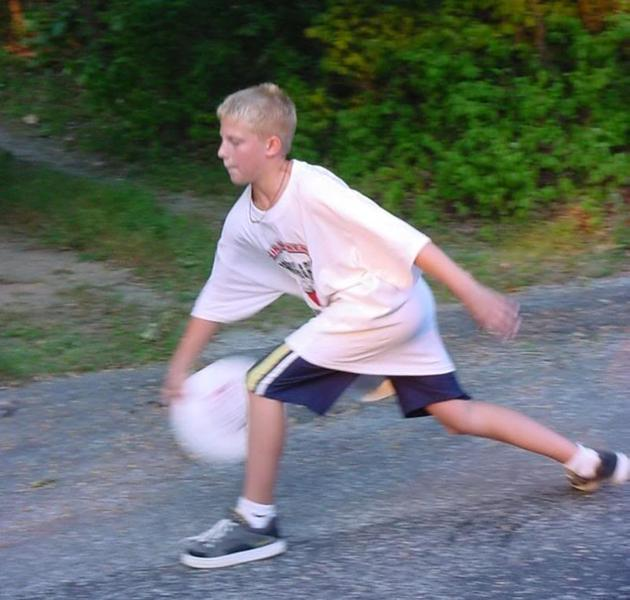person: (162, 82, 629, 566)
